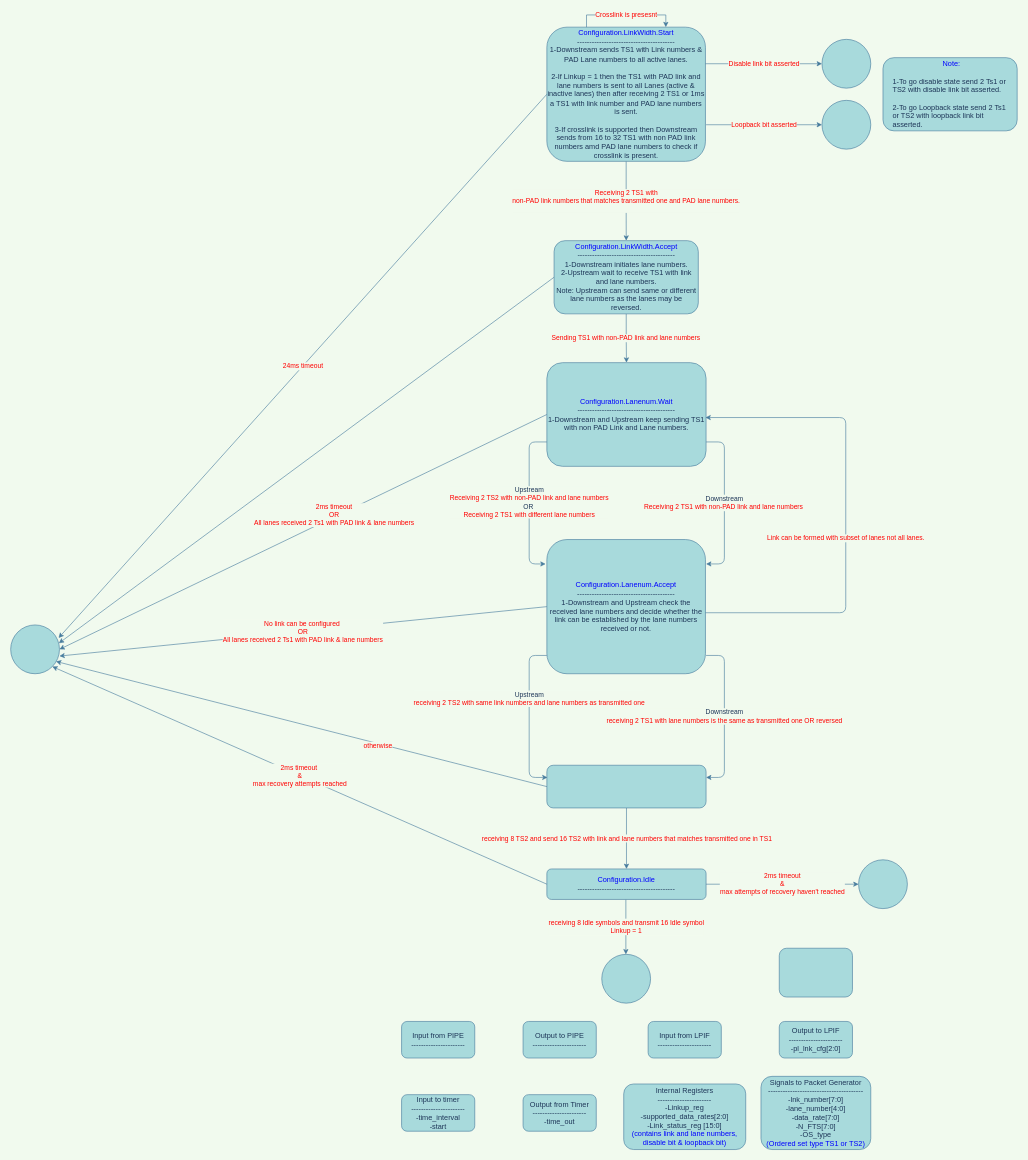
The diagram is 1028 pixels wide and 1160 high, and some of its shapes have lost their labels. Each missing label, with the centre of its shape:
"Configuration.Complete ----------------------------------------" goes at [626,786].
"Detect" goes at [34,649].
"Disable" goes at [846,63].
"L0" goes at [626,978].
"Loopback" goes at [846,124].
"Note I think linkup=1 this mean to assign pl_trdy=1 ?!" goes at [815,972].
"Recovery" goes at [882,884].
